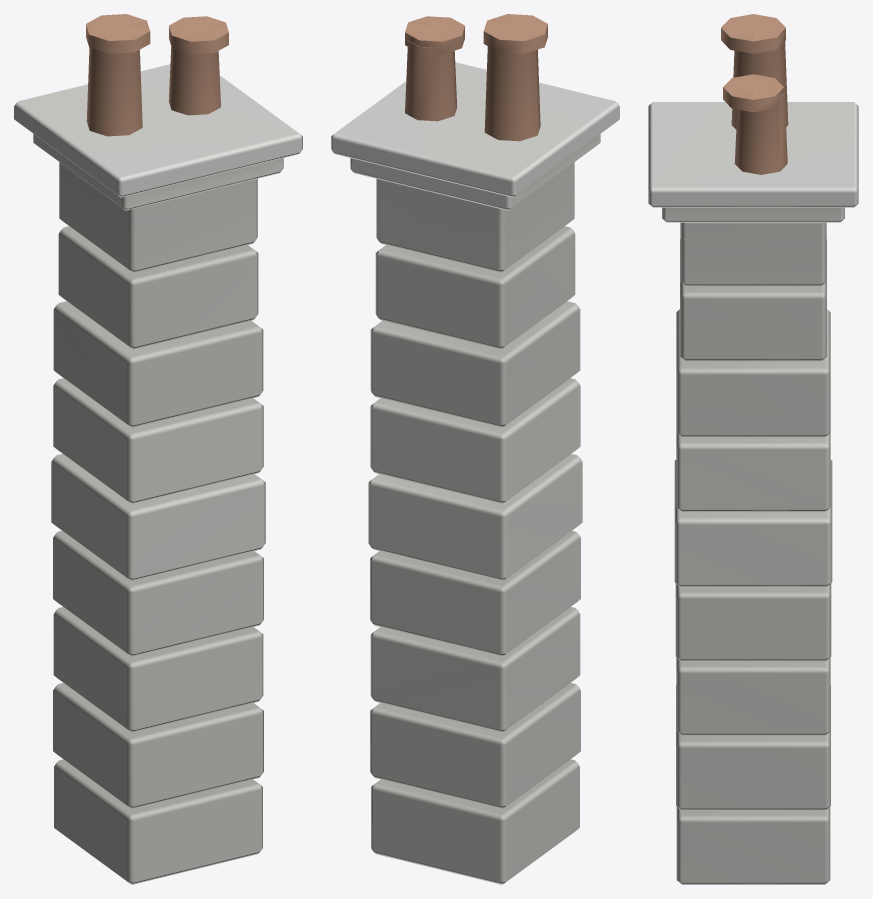
The model's file is slate-chimney.glb.
The picture shows the model from 3 angles, left to right: view 1: azimuth 30°, elevation 25°; view 2: azimuth 150°, elevation 25°; view 3: azimuth 270°, elevation 25°; orthographic projection. The views are drawn at different scales.
Parts seen in each view (by area): view 1: body; view 2: body; view 3: body.
Boxes of the visible parts, x1=… form: body: x1=14, y1=14, x2=302, y2=884; body: x1=331, y1=14, x2=619, y2=884; body: x1=648, y1=14, x2=858, y2=884.
Size of what is drawn, in the model's own units: 0.4599 by 1.95 by 0.4599.
